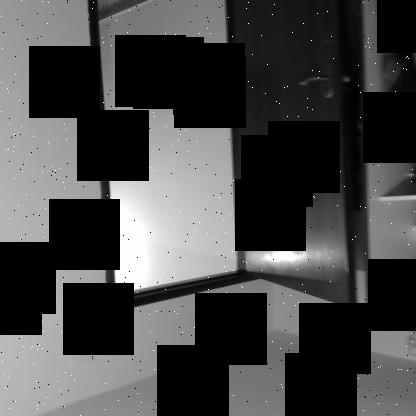Porte: (88, 0, 358, 314)
